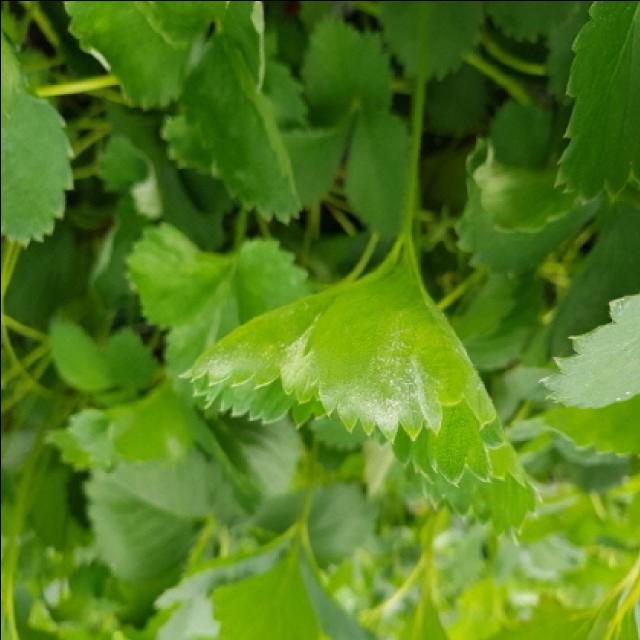Powdery Mildew Leaf: (300, 239, 496, 443), (174, 282, 348, 430)
